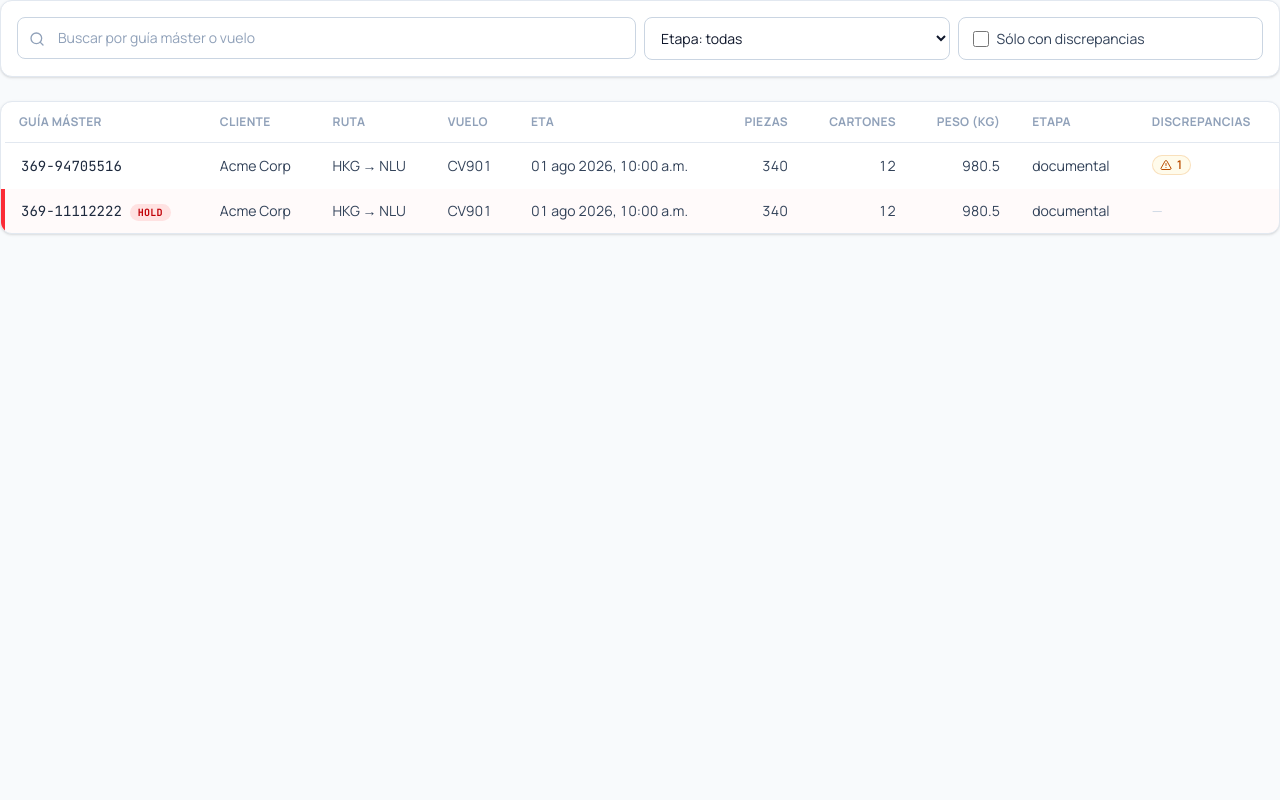
it: PrealertasView › shows "sin verificar" when there is no observed flight data
Step 1. Click the text "369-94705516" → (103, 166), box [3,142,204,188]
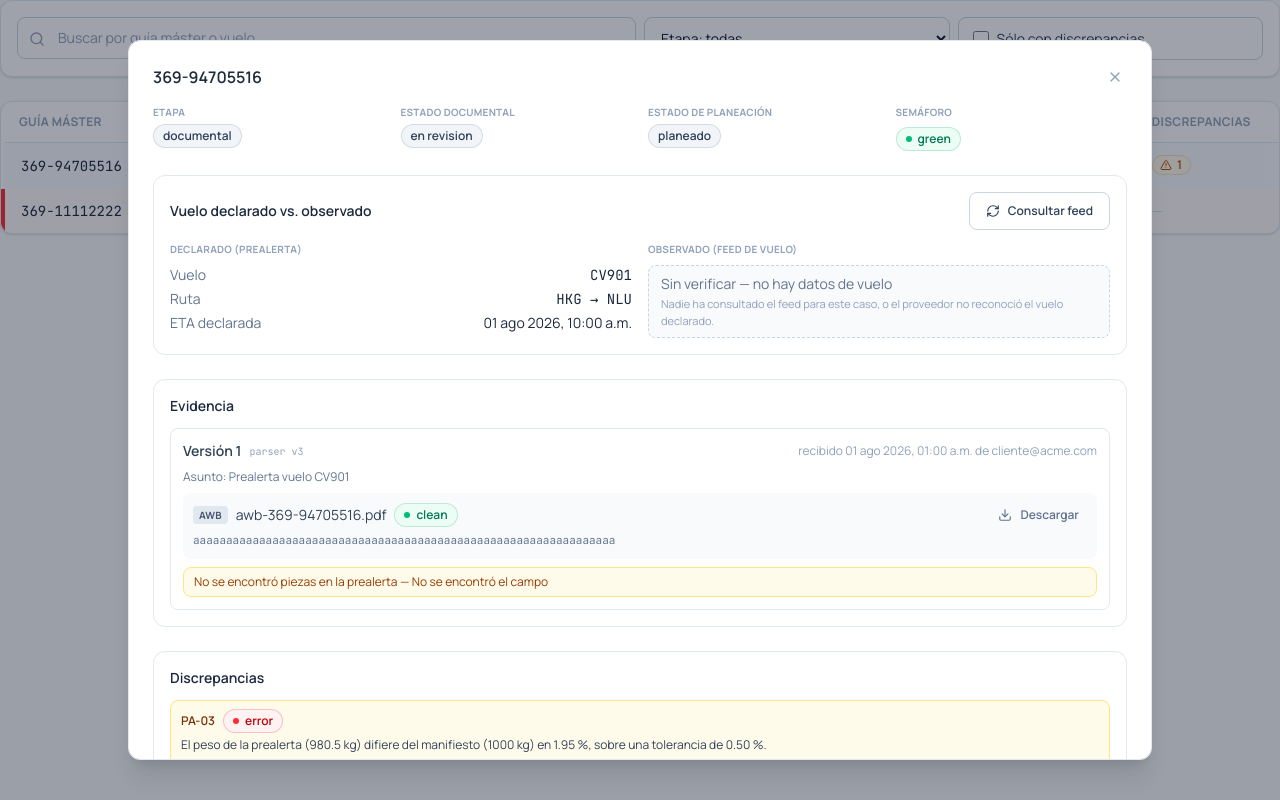
expect the text "Sin verificar — no hay datos de vuelo" is shown: met, box [661,274,892,293]
